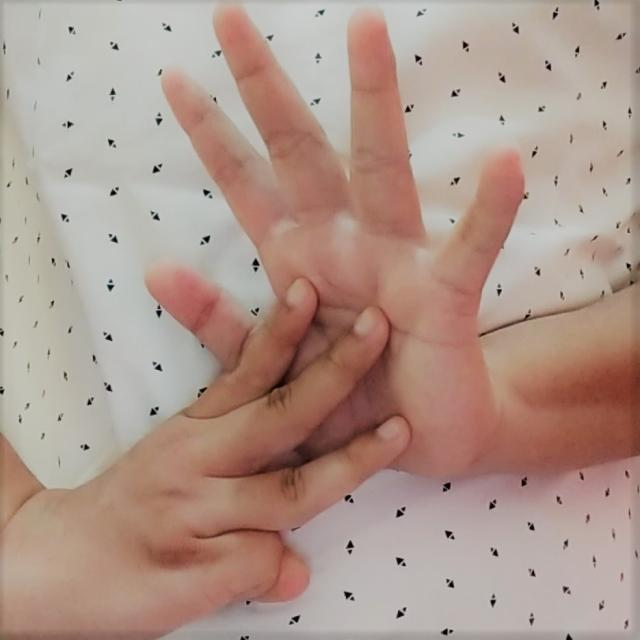M: (127, 2, 539, 634)
